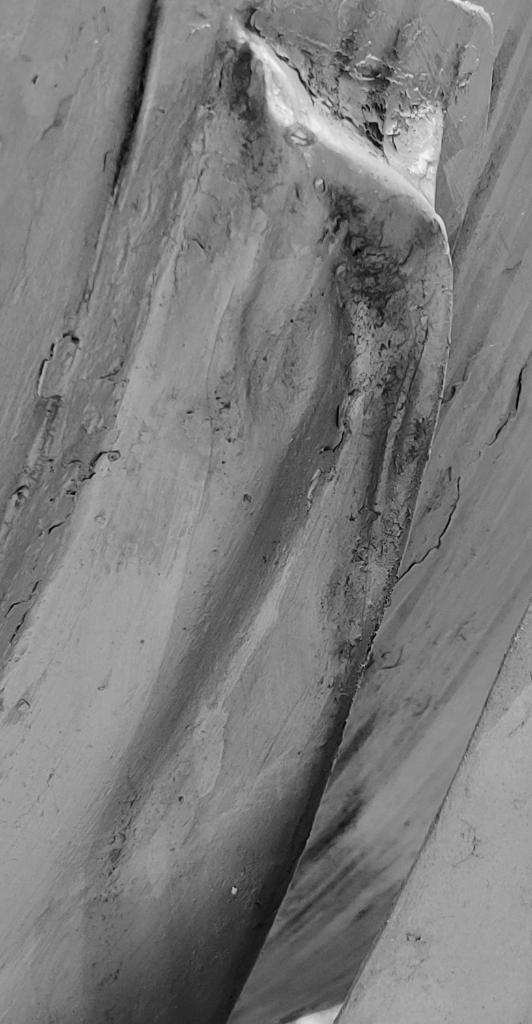dent: (1, 0, 532, 1024)
